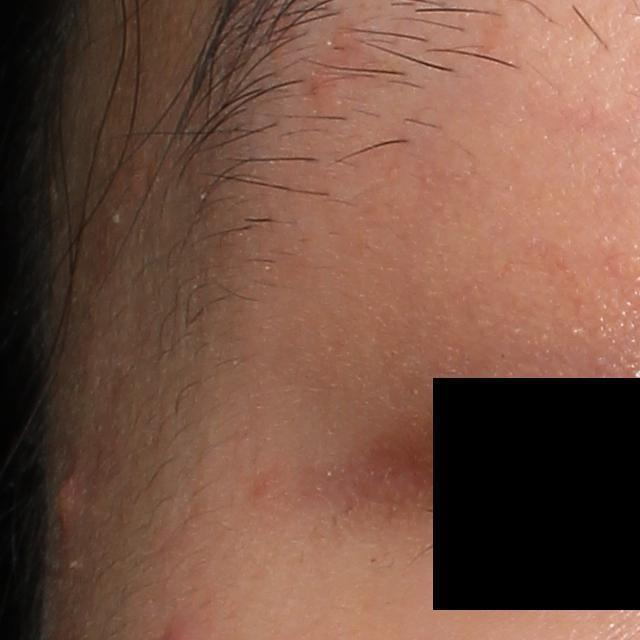papule: (47, 480, 80, 521)
